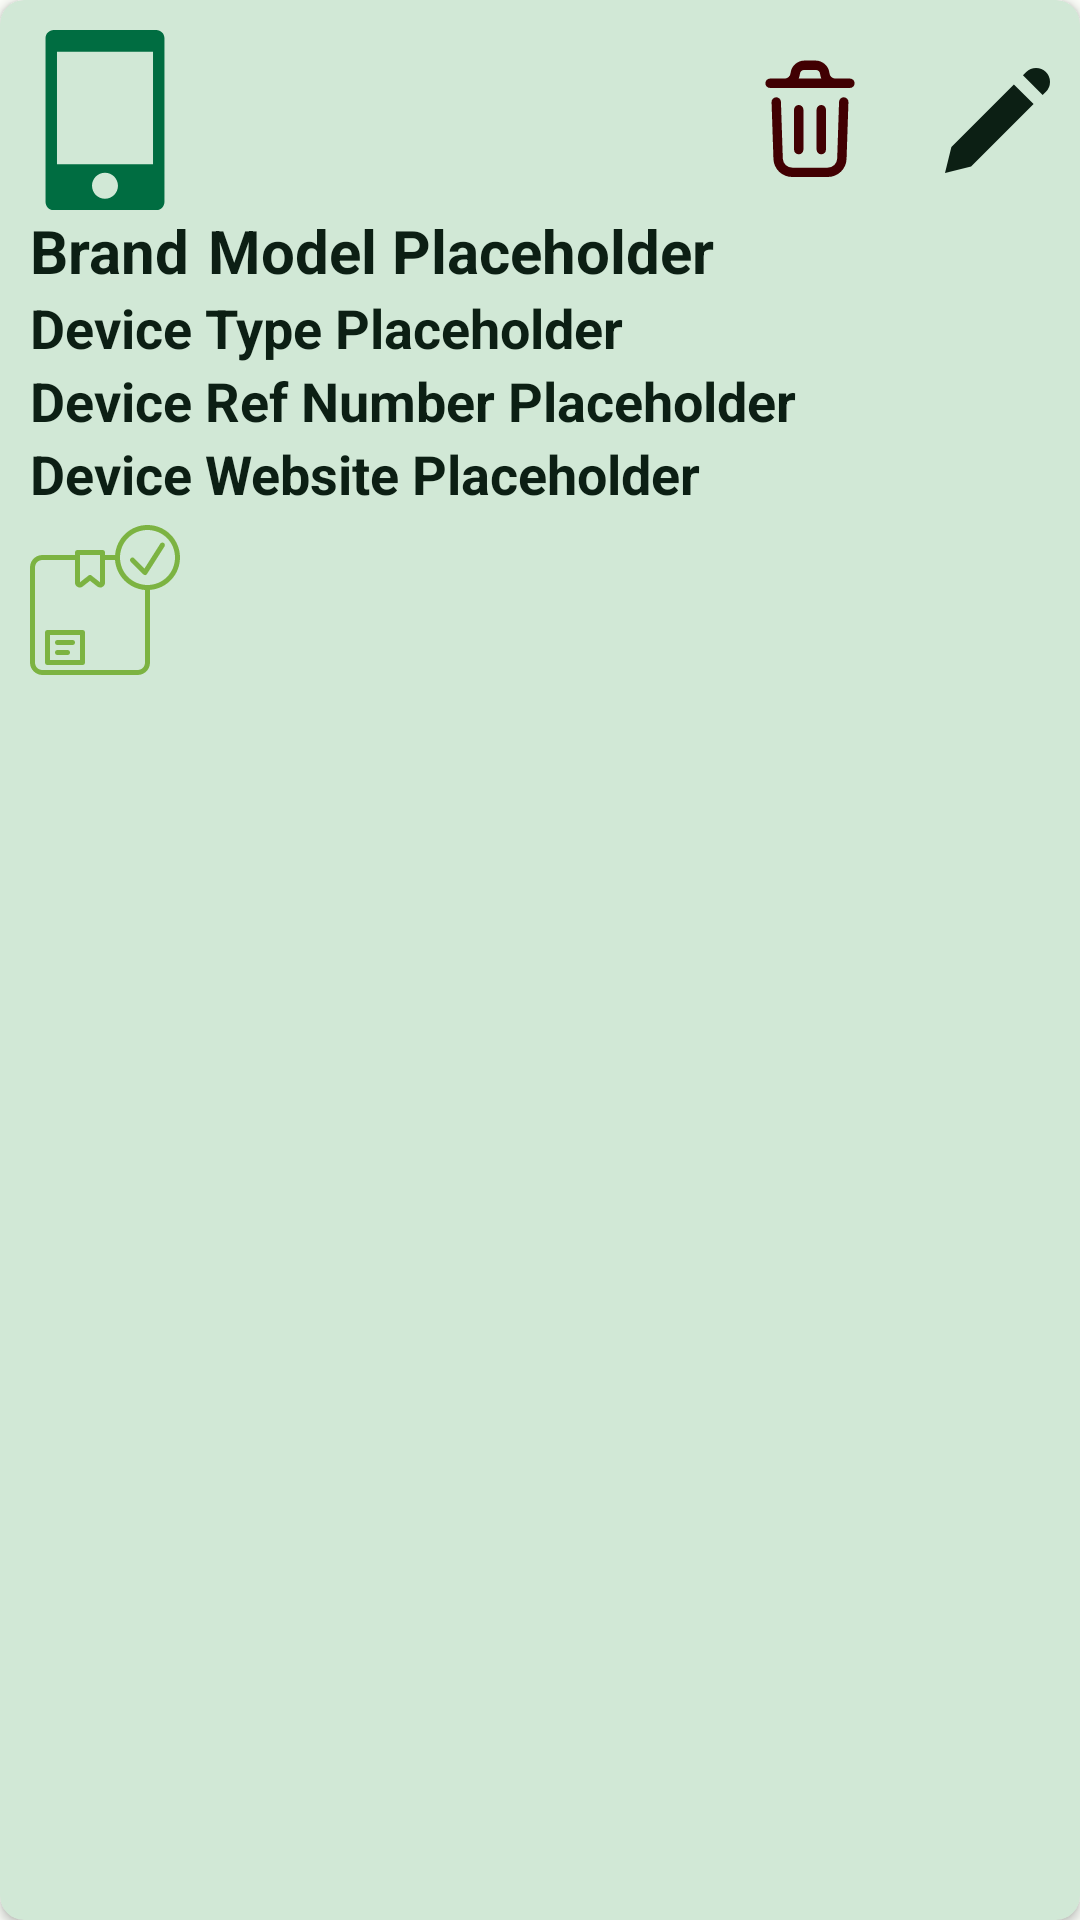

Icons on this 1080*1920 Android screen, each with the point to tap as point (x, y):
delete: point (810, 118)
device available: point (105, 600)
edit: point (997, 120)
